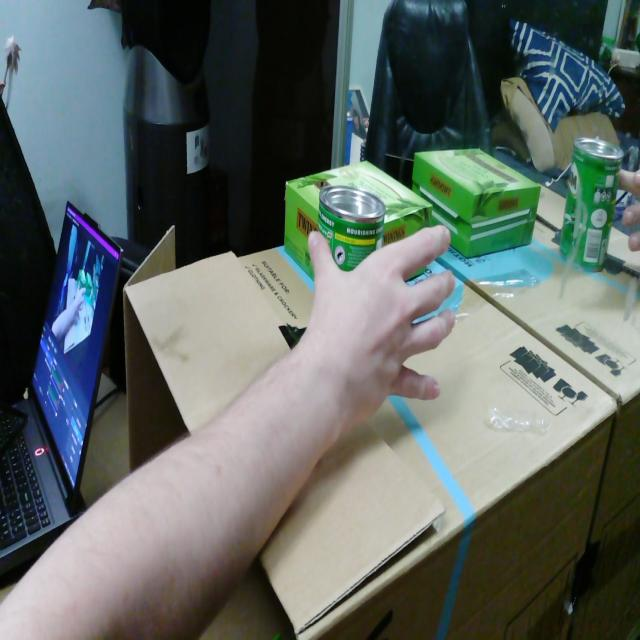nestle_milo_tin: (318, 185, 386, 271)
twinings_greentea_box: (285, 161, 432, 281), (409, 267, 425, 279)
